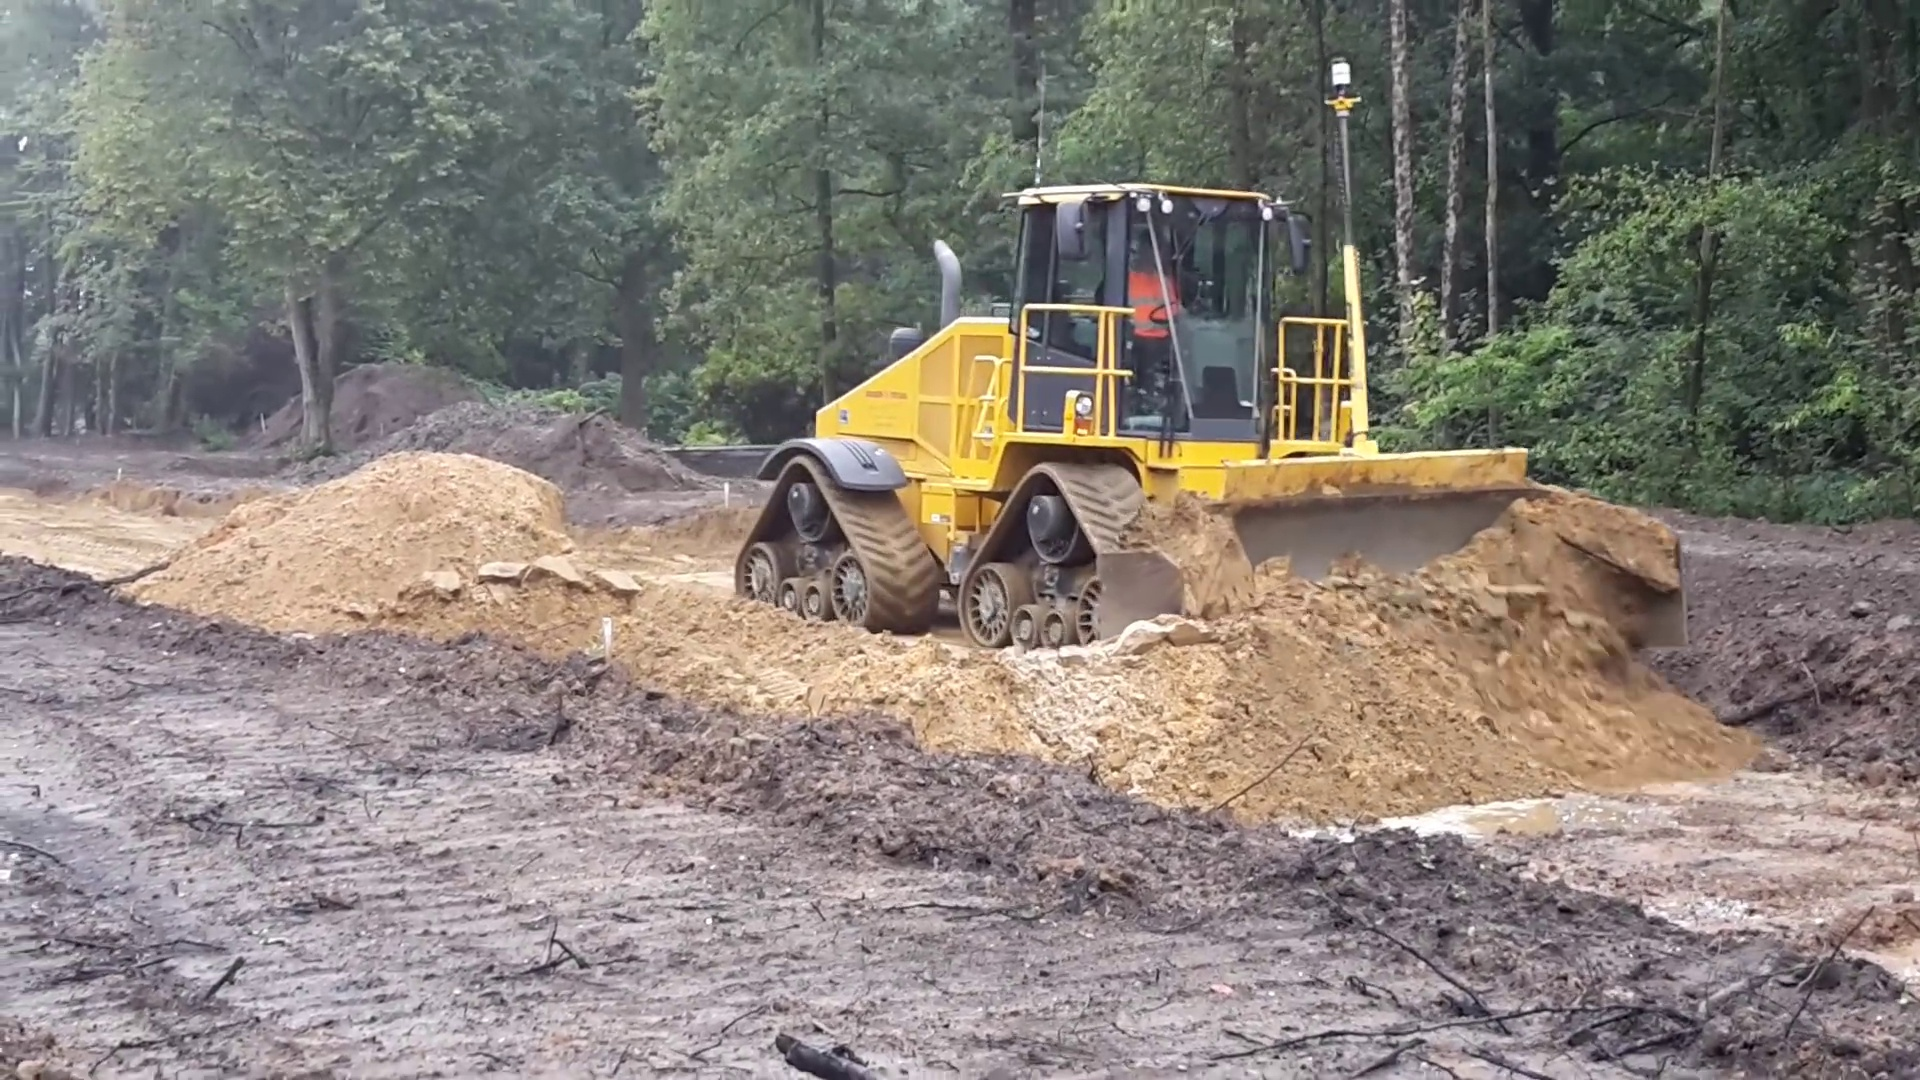bulldozer: (731, 178, 1698, 727)
